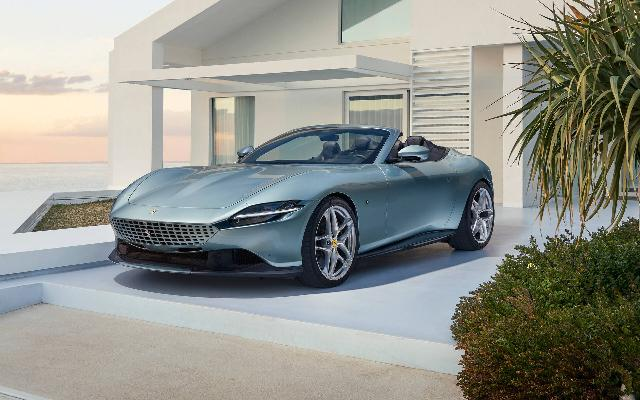ferrari: (107, 122, 495, 288)
